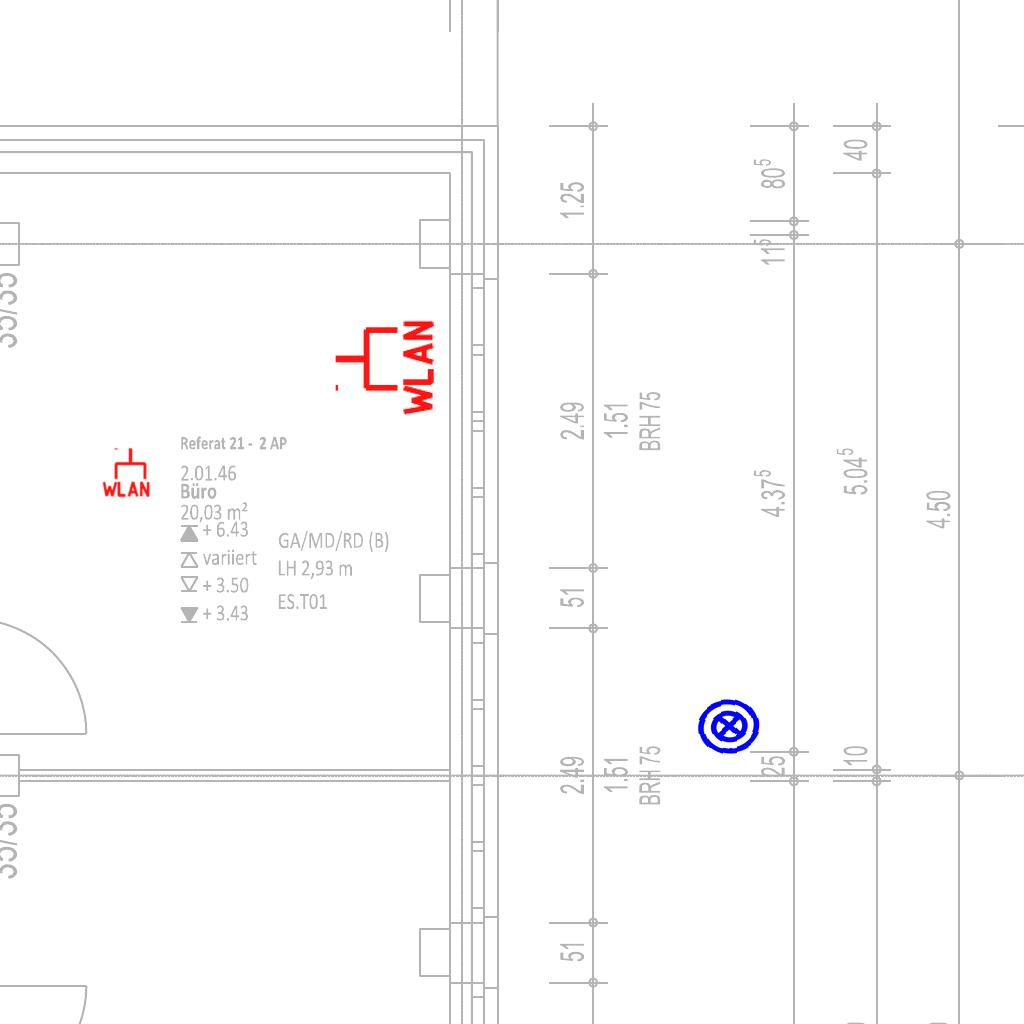Taster_beleuchtet: (693, 690, 765, 762)
WLAN: (331, 316, 436, 420), (100, 446, 152, 498)
